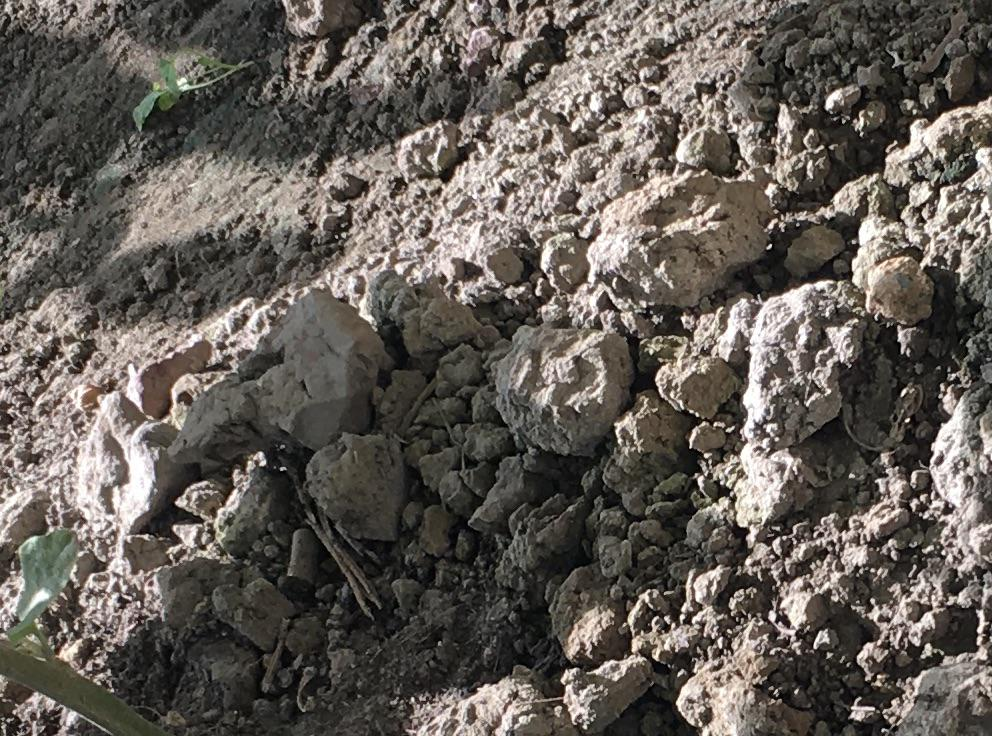block: (169, 285, 377, 460), (582, 168, 773, 313), (477, 326, 633, 457), (72, 392, 185, 540)
